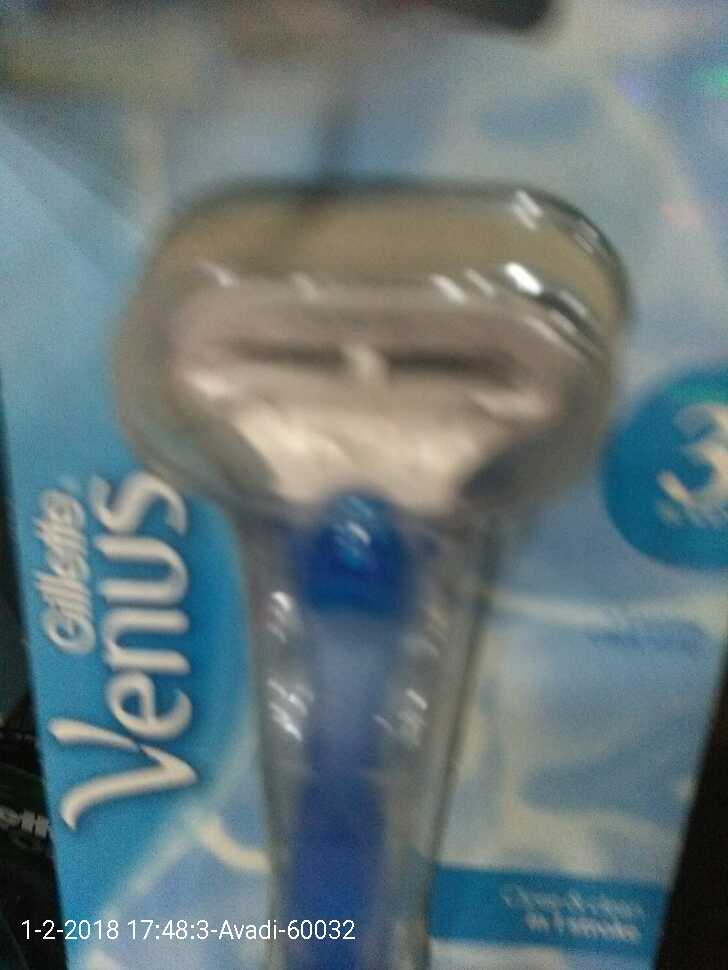beauty: (110, 166, 607, 970)
